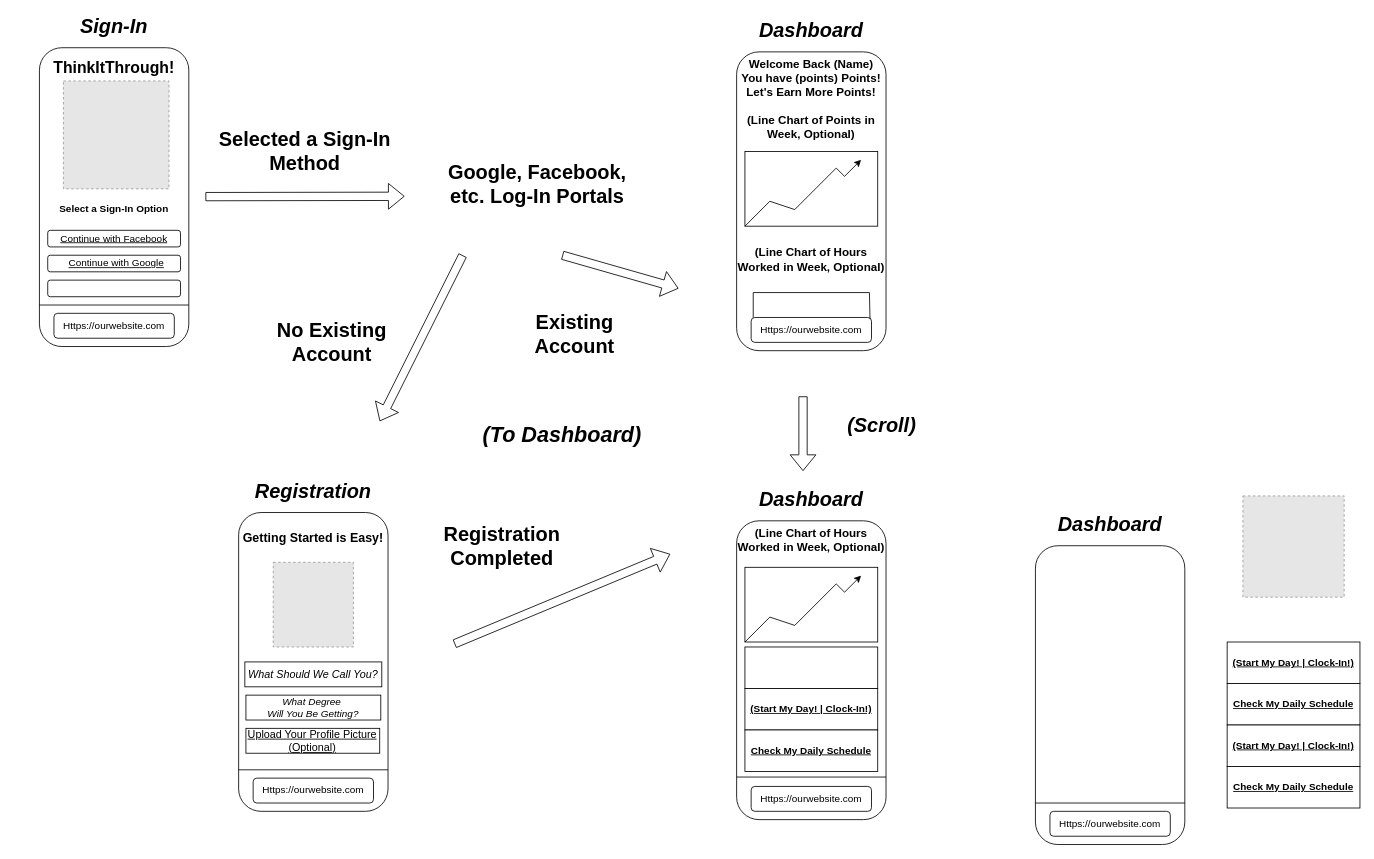
Image size: 1374x859. Some labels were removed from this diagram. Grey dashed boxes stand in for pictures. Here are the shapes that lost their labels. From the top down, the centre of each, then its label:
[114,288]: Continue with X
[811,667]: My Space
